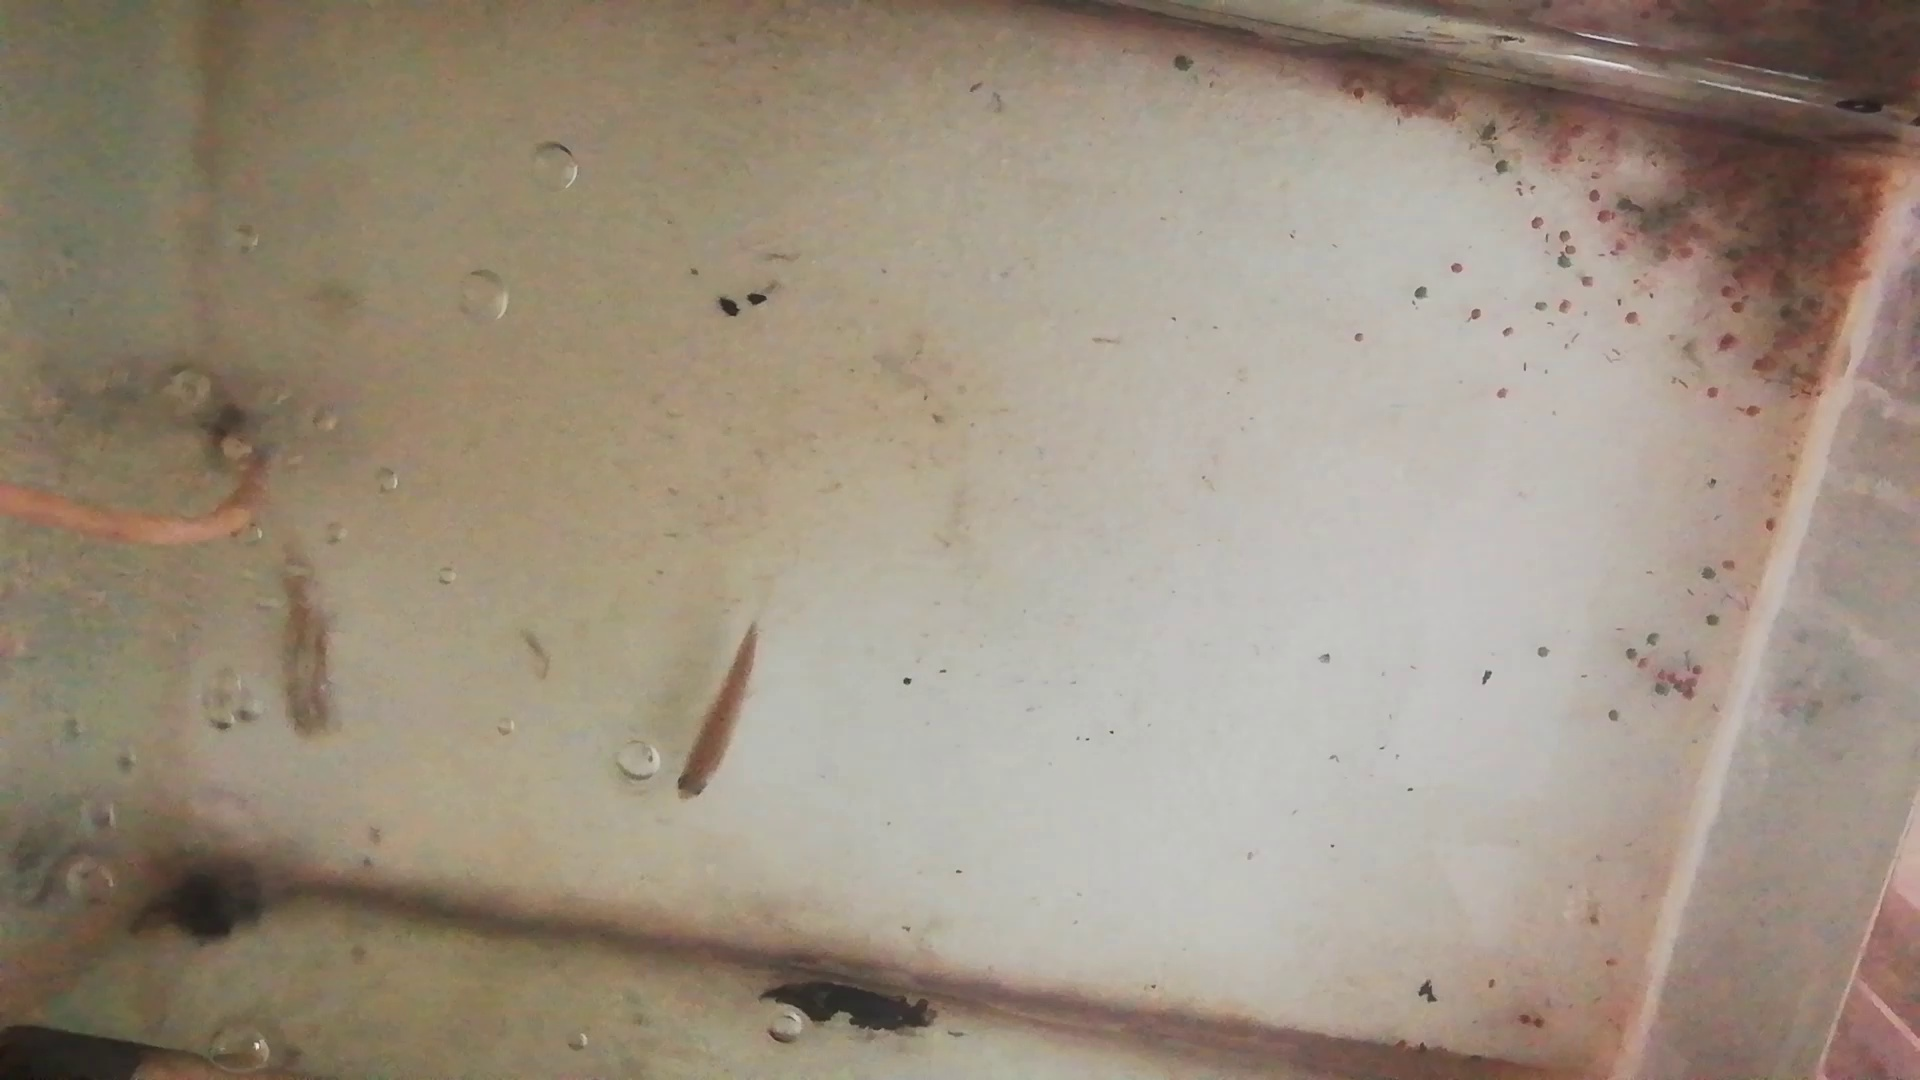fish: (666, 622, 761, 806), (266, 531, 343, 744)
